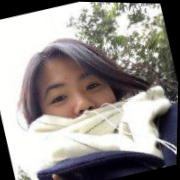WRONG: (36, 57, 128, 156)
